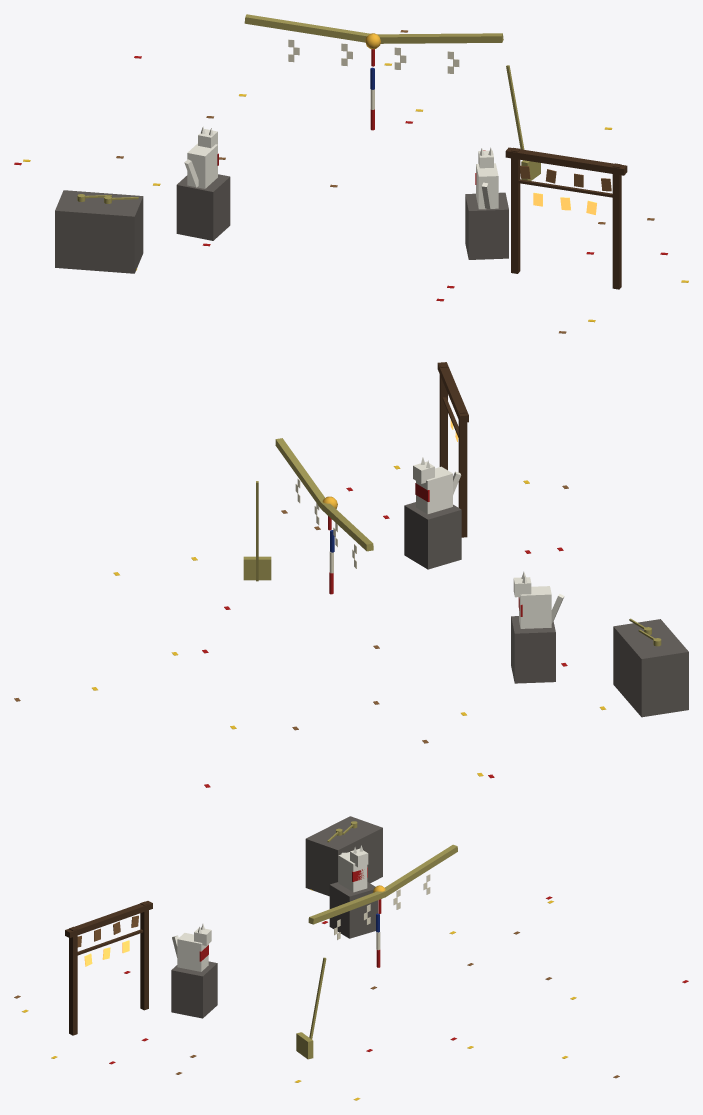
The model's file is SM_Forest_Shrine_NoCol.fbx.
3 renders of one model, top to bottom at view 1: azimuth 30°, elevation 25°; view 2: azimuth 150°, elevation 25°; view 3: azimuth 270°, elevation 25°, orthographic. The views are drawn at different scales.
Visible parts, largest first — view 1: SM_Forest_Shrine_NoCol; view 2: SM_Forest_Shrine_NoCol; view 3: SM_Forest_Shrine_NoCol.
Part boxes in pixels (x1,y1,x2,y2): SM_Forest_Shrine_NoCol: (14,14,688,333); SM_Forest_Shrine_NoCol: (14,362,688,787); SM_Forest_Shrine_NoCol: (14,816,688,1100).
Size of the model in its own units: 7.2 by 1.79 by 8.71.
